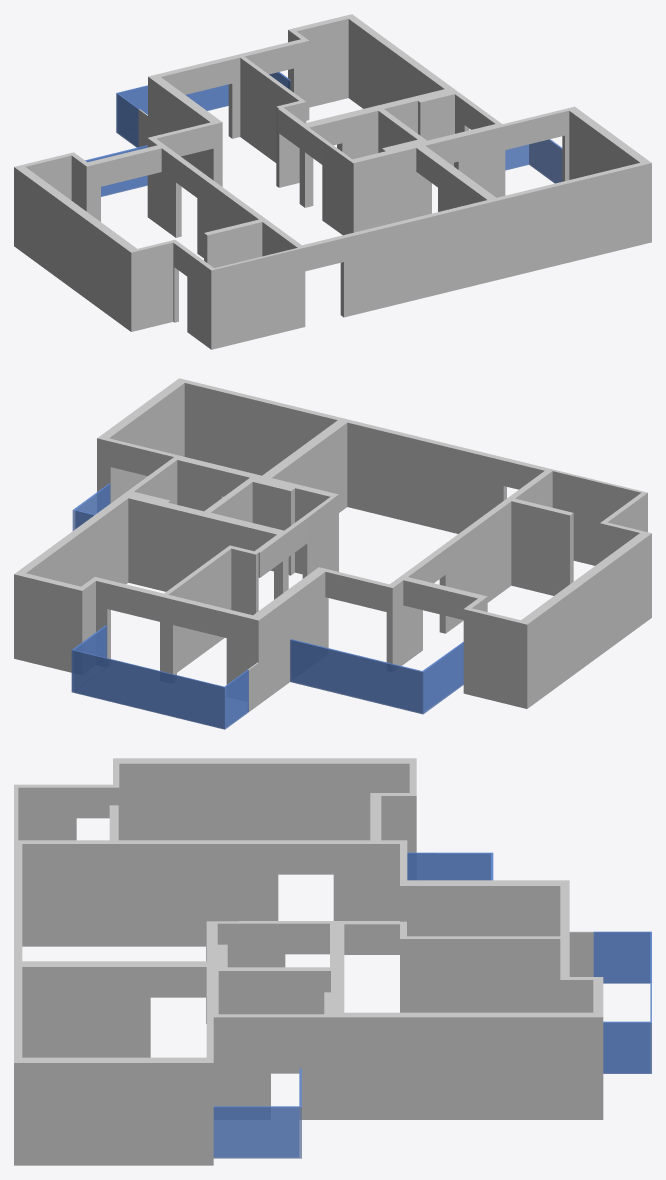
Rendered from 3BHK FLOOR PLAN.dae.
3 views of the same model, one above another, from view 1: azimuth 30°, elevation 25°; view 2: azimuth 150°, elevation 25°; view 3: azimuth 270°, elevation 25° (orthographic). The views are drawn at different scales.
Parts seen in each view (by area): view 1: SketchUp (×4); view 2: SketchUp (×4); view 3: SketchUp (×5).
Part boxes in pixels (left/top/right/bottom): SketchUp (×4): left=14, top=14, right=651, bottom=349; SketchUp (×4): left=14, top=378, right=651, bottom=729; SketchUp (×5): left=14, top=758, right=651, bottom=1165.
Bounding box in the file's own units: 501 × 443 × 78.74.
